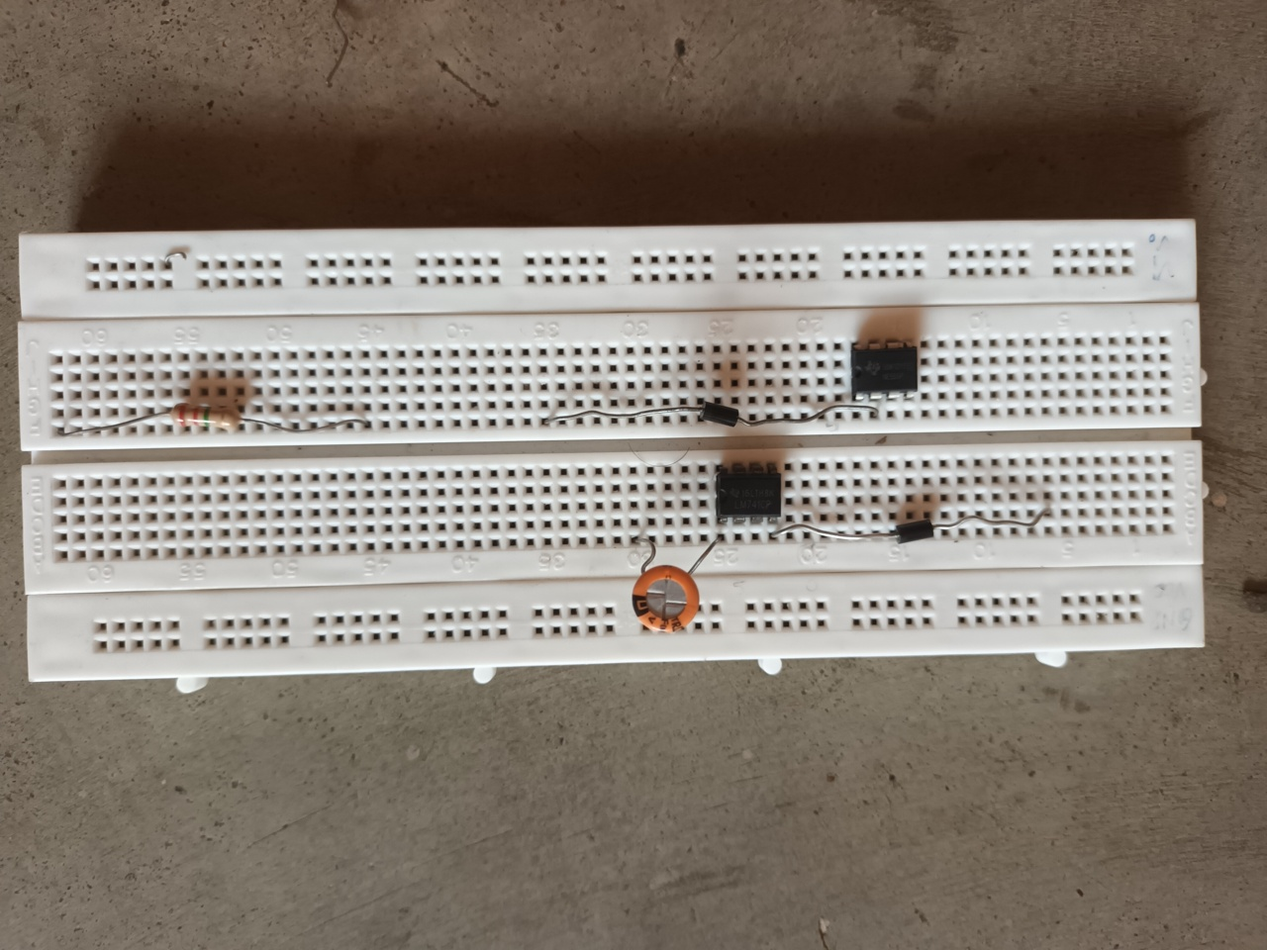capacitor: (631, 563, 702, 632)
resistor: (170, 401, 243, 434)
